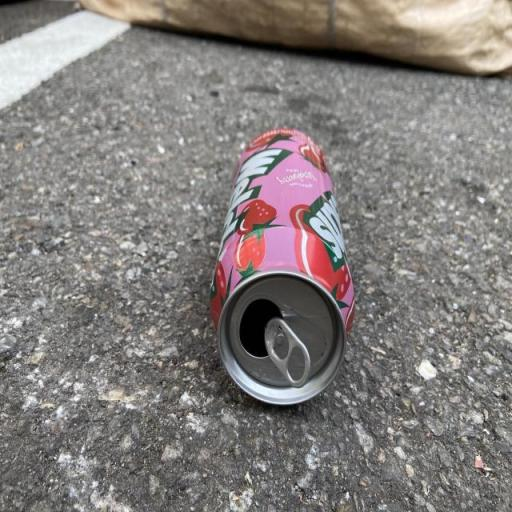metal: (186, 116, 376, 451)
